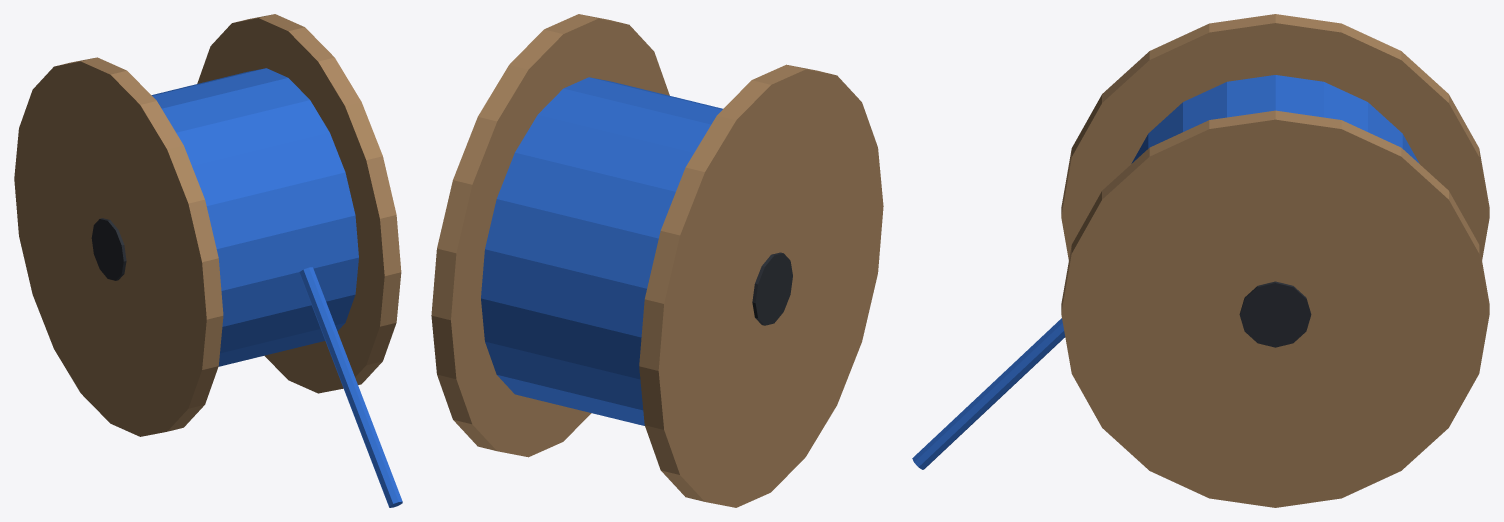
File: 31_Cable_Spool.fbx
The picture shows the model from 3 angles, left to right: view 1: azimuth 30°, elevation 25°; view 2: azimuth 150°, elevation 25°; view 3: azimuth 270°, elevation 25°; orthographic projection. The views are drawn at different scales.
Parts seen in each view (by area): view 1: 31_Cable_Spool; view 2: 31_Cable_Spool; view 3: 31_Cable_Spool.
Boxes of the visible parts, box(x1,y1,x2,y2) form: 31_Cable_Spool: box(14, 14, 402, 507); 31_Cable_Spool: box(431, 14, 883, 507); 31_Cable_Spool: box(912, 14, 1489, 507).
Bounding box in the file's own units: 0.36 × 0.6 × 0.8086.
